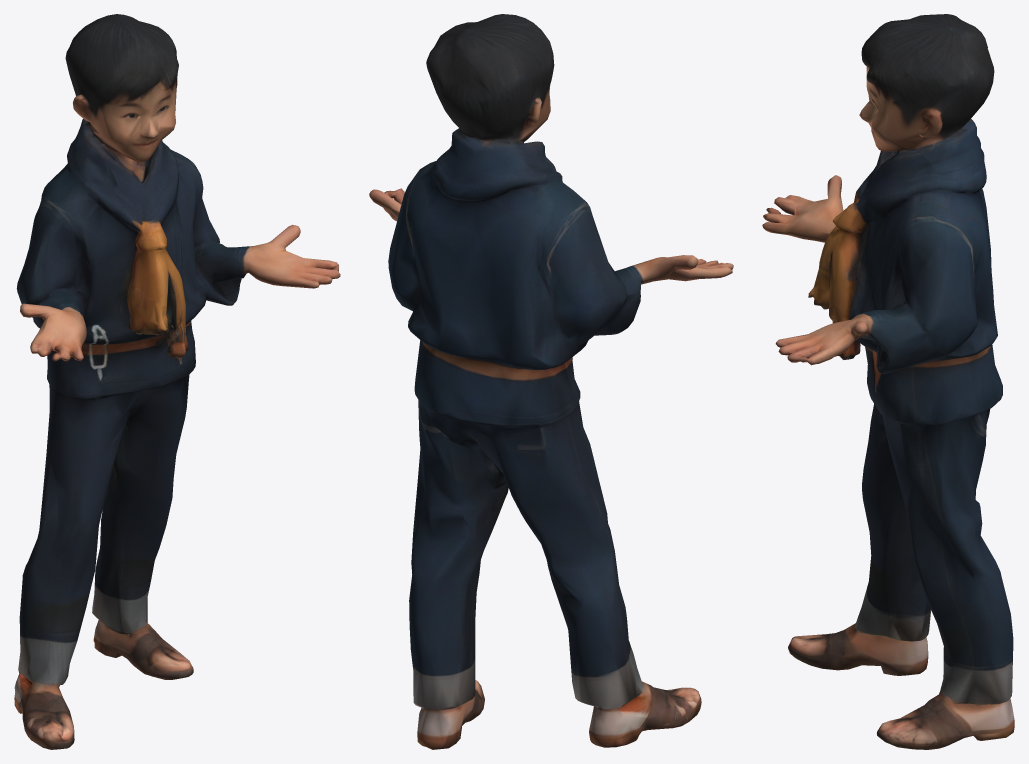
Rendered from KimDong.glb.
The picture shows the model from 3 angles, left to right: view 1: azimuth 30°, elevation 25°; view 2: azimuth 150°, elevation 25°; view 3: azimuth 270°, elevation 25°; orthographic projection. The views are drawn at different scales.
Size of the model in its own units: 1.02 by 2 by 0.6537.
1 material, 1 textured.
